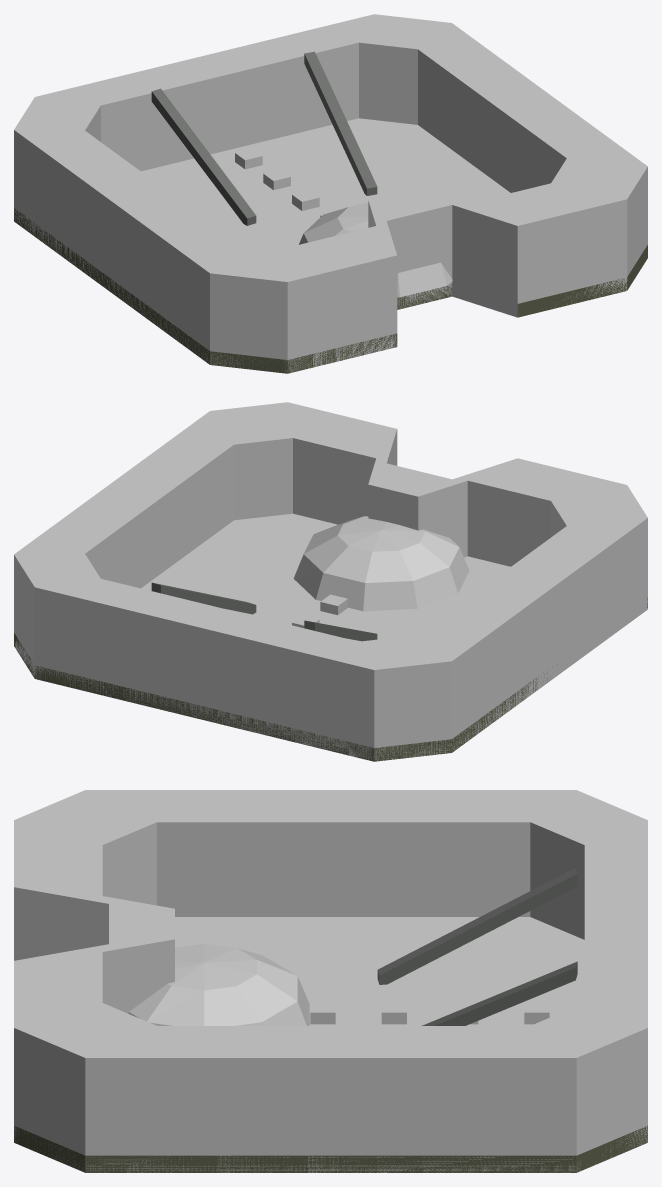
Rendered from mech_processor_c.obj.
3 renders of one model, top to bottom at view 1: azimuth 30°, elevation 25°; view 2: azimuth 150°, elevation 25°; view 3: azimuth 270°, elevation 25°, orthographic. The views are drawn at different scales.
Parts seen in each view (by area): view 1: mech_processor_c_8, mech_processor_c_4, mech_processor_c_25, mech_processor_c_24, mech_processor_c_12, mech_processor_c_20, mech_processor_c_10, mech_processor_c_0, mech_processor_c_2, mech_processor_c_16, mech_processor_c_18, mech_processor_c_22 (+10 smaller); view 2: mech_processor_c_4, mech_processor_c_8, mech_processor_c_24, mech_processor_c_25, mech_processor_c_26, mech_processor_c_12, mech_processor_c_20, mech_processor_c_6, mech_processor_c_0, mech_processor_c_22, mech_processor_c_2, mech_processor_c_16 (+13 smaller); view 3: mech_processor_c_24, mech_processor_c_8, mech_processor_c_25, mech_processor_c_4, mech_processor_c_0, mech_processor_c_26, mech_processor_c_22, mech_processor_c_2, mech_processor_c_6, mech_processor_c_10, mech_processor_c_14, mech_processor_c_12 (+15 smaller).
Part boxes in pixels (left/top/right/bottom): mech_processor_c_8: left=14, top=130, right=233, bottom=358; mech_processor_c_4: left=44, top=16, right=365, bottom=171; mech_processor_c_25: left=141, top=118, right=510, bottom=246; mech_processor_c_24: left=423, top=23, right=640, bottom=192; mech_processor_c_12: left=287, top=226, right=393, bottom=372; mech_processor_c_20: left=468, top=185, right=627, bottom=306; mech_processor_c_10: left=210, top=240, right=292, bottom=369; mech_processor_c_0: left=14, top=208, right=647, bottom=373; mech_processor_c_2: left=365, top=14, right=441, bottom=124; mech_processor_c_16: left=370, top=188, right=452, bottom=309; mech_processor_c_18: left=419, top=188, right=517, bottom=317; mech_processor_c_22: left=551, top=161, right=647, bottom=273; mech_processor_c_4: left=43, top=578, right=365, bottom=759; mech_processor_c_8: left=423, top=522, right=641, bottom=752; mech_processor_c_24: left=14, top=416, right=233, bottom=588; mech_processor_c_25: left=141, top=513, right=510, bottom=641; mech_processor_c_26: left=293, top=516, right=469, bottom=611; mech_processor_c_12: left=467, top=459, right=625, bottom=566; mech_processor_c_20: left=288, top=402, right=393, bottom=524; mech_processor_c_6: left=365, top=635, right=441, bottom=761; mech_processor_c_0: left=14, top=598, right=647, bottom=761; mech_processor_c_22: left=210, top=403, right=292, bottom=519; mech_processor_c_2: left=16, top=553, right=98, bottom=677; mech_processor_c_16: left=370, top=463, right=451, bottom=529; mech_processor_c_24: left=102, top=1026, right=576, bottom=1172; mech_processor_c_8: left=102, top=790, right=575, bottom=916; mech_processor_c_25: left=175, top=917, right=584, bottom=1025; mech_processor_c_4: left=584, top=825, right=647, bottom=1022; mech_processor_c_0: left=14, top=1126, right=647, bottom=1172; mech_processor_c_26: left=128, top=943, right=309, bottom=1025; mech_processor_c_22: left=21, top=1003, right=149, bottom=1172; mech_processor_c_2: left=530, top=1005, right=647, bottom=1164; mech_processor_c_6: left=530, top=794, right=647, bottom=937; mech_processor_c_10: left=22, top=790, right=149, bottom=904; mech_processor_c_14: left=14, top=887, right=173, bottom=960; mech_processor_c_12: left=14, top=820, right=102, bottom=895.
Bounding box in the file's own units: 4 × 0.845 × 4.
